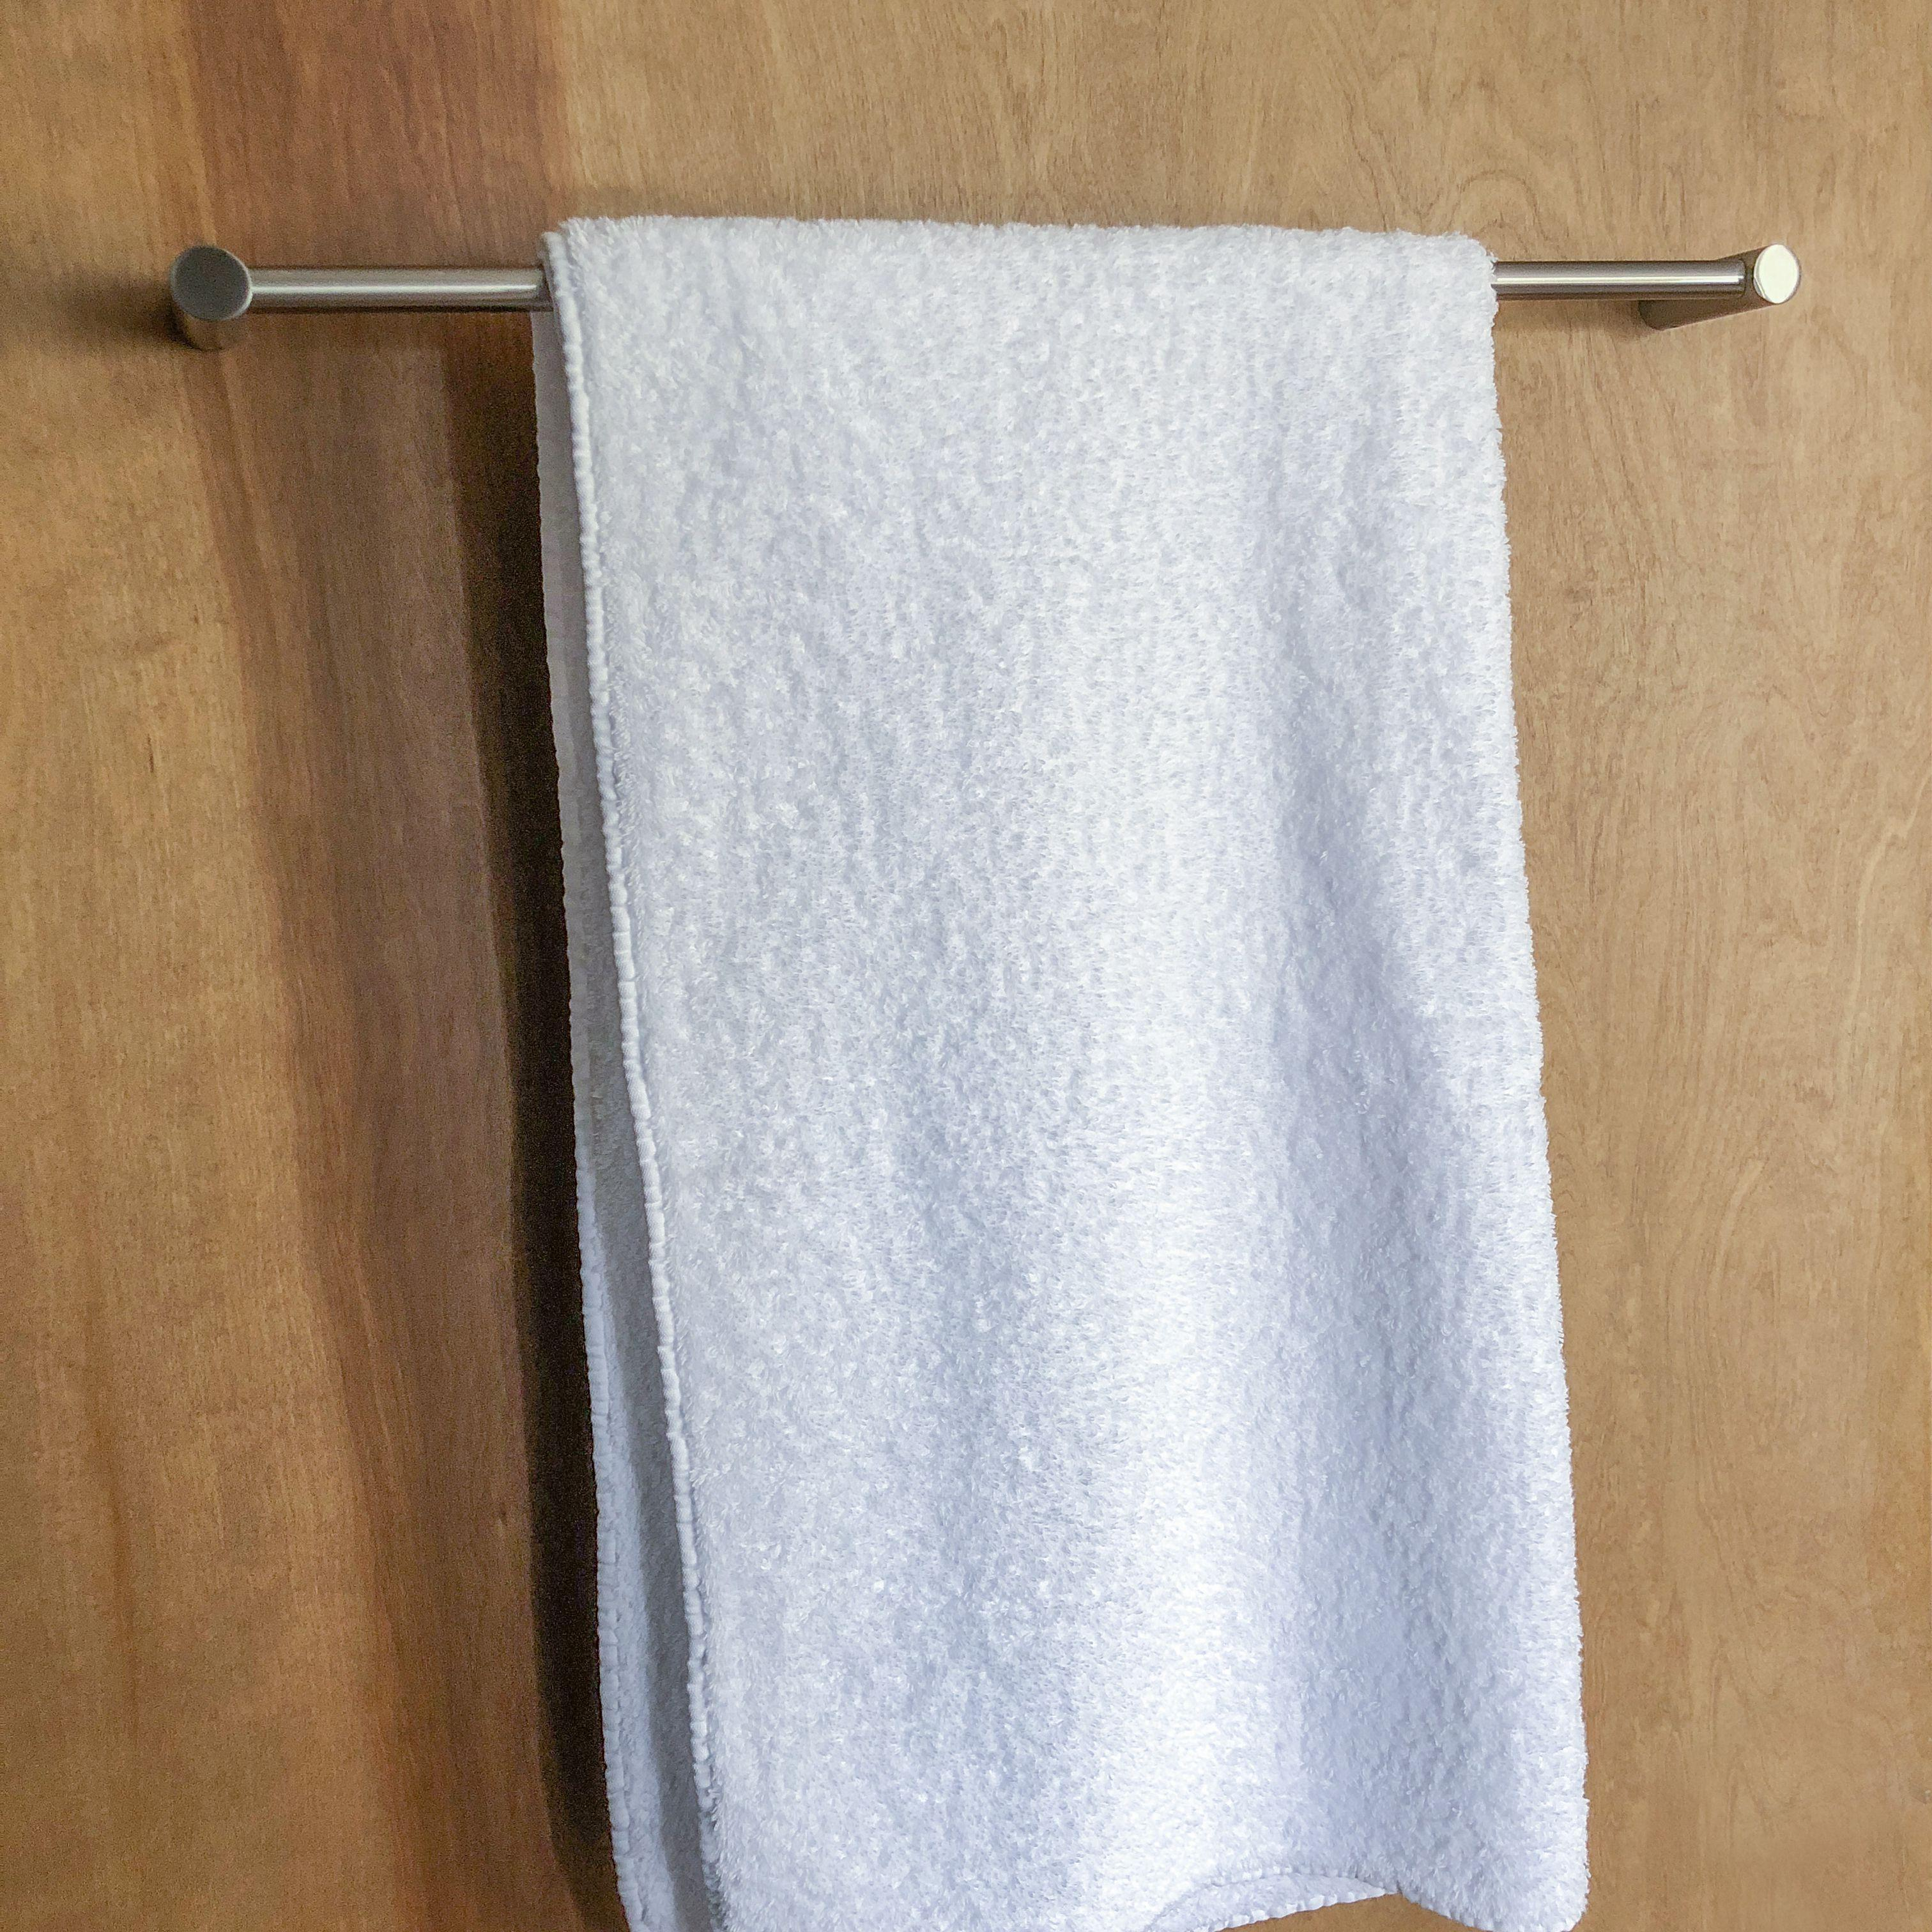towel: (479, 172, 1681, 1932)
